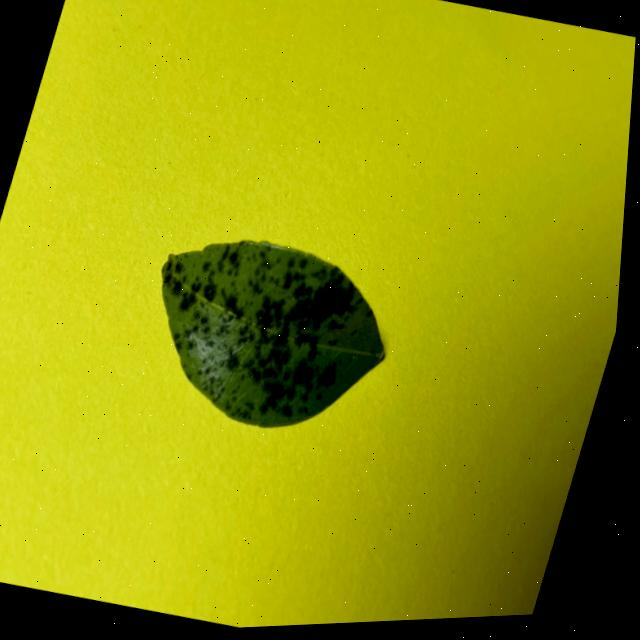sooty_mold: (161, 241, 384, 427)
